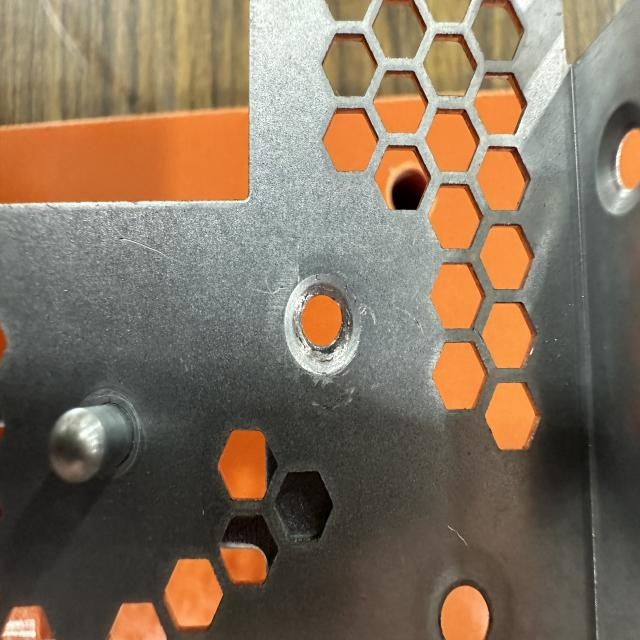Missing screw: (280, 263, 368, 382)
